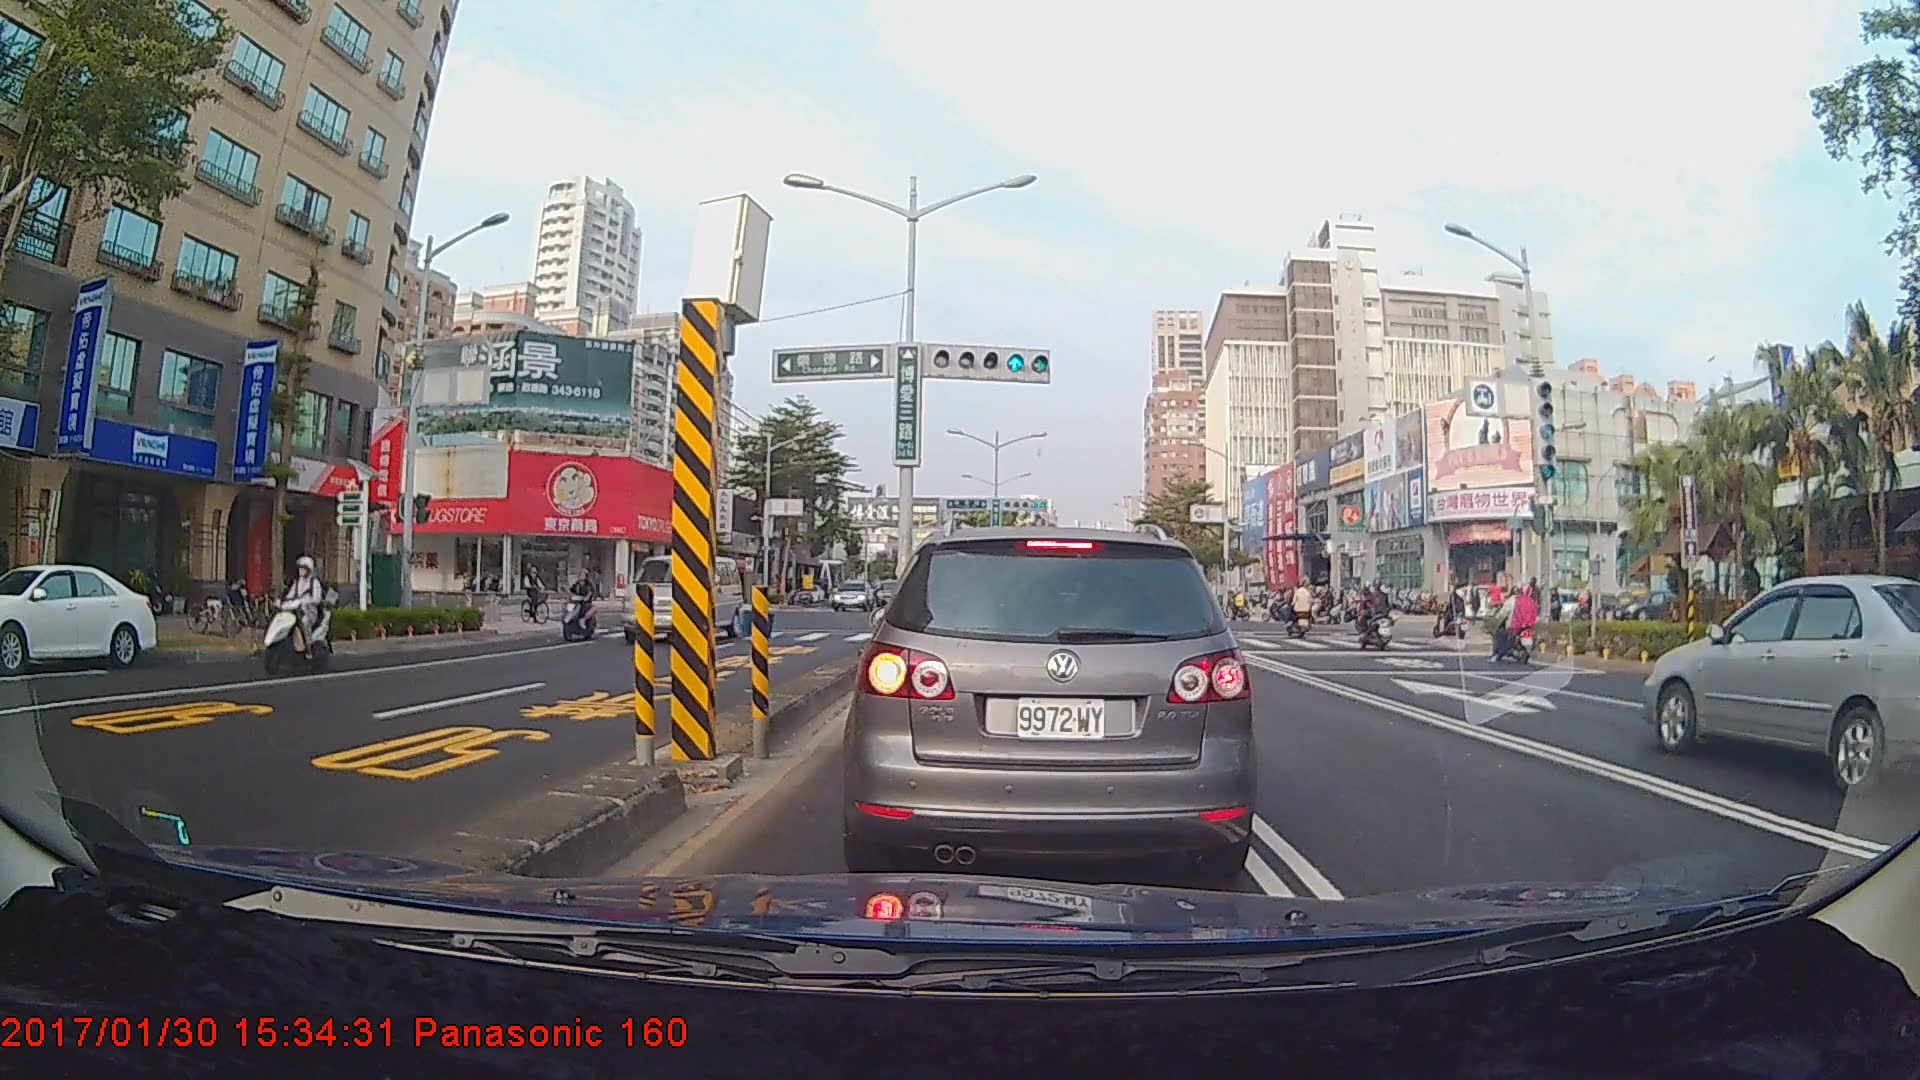rider: (240, 556, 324, 685), (1485, 582, 1548, 668), (1349, 580, 1403, 654), (565, 567, 610, 638), (518, 559, 561, 629), (1436, 582, 1473, 646), (1283, 582, 1323, 637)
vehicle: (853, 525, 1249, 872), (1644, 573, 1920, 793), (0, 561, 157, 671), (623, 552, 752, 646), (827, 579, 878, 611)
